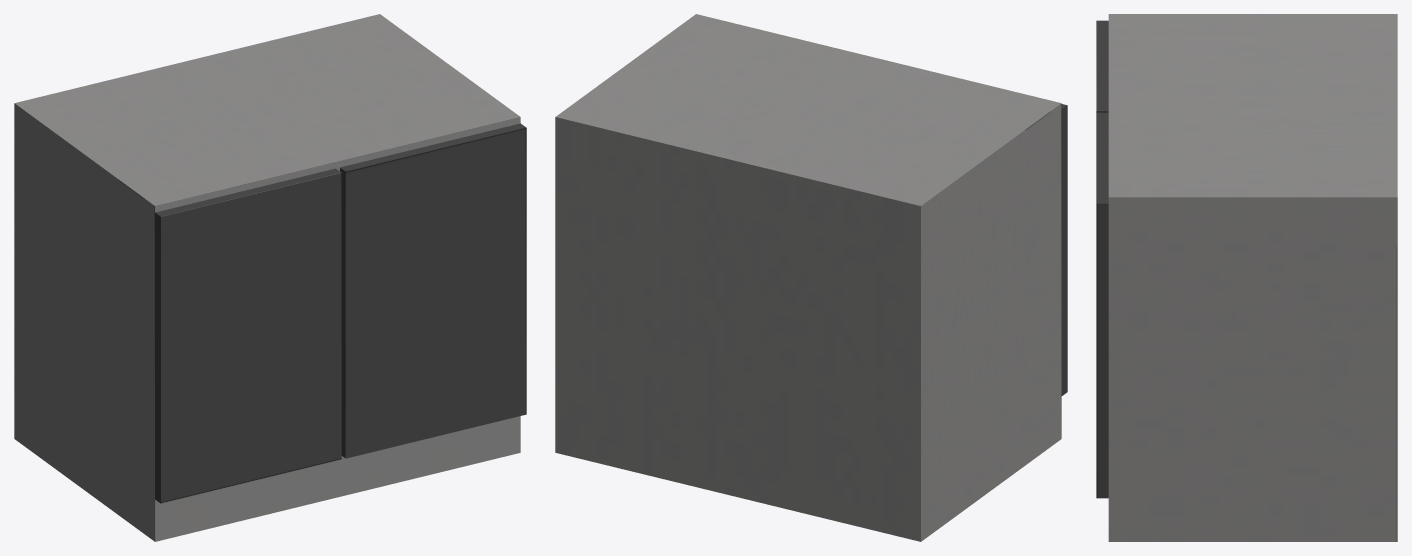
3 views of the same model, side by side, from view 1: azimuth 30°, elevation 25°; view 2: azimuth 150°, elevation 25°; view 3: azimuth 270°, elevation 25° (orthographic). The views are drawn at different scales.
Visible parts, largest first — view 1: Skrin_90_low v2; view 2: Skrin_90_low v2; view 3: Skrin_90_low v2.
Boxes of the visible parts, x1,y1,x2,y2 form: Skrin_90_low v2: [14, 14, 526, 541]; Skrin_90_low v2: [555, 14, 1067, 541]; Skrin_90_low v2: [1096, 14, 1397, 541].
Size of the model in its own units: 0.9 by 0.625 by 0.79.
